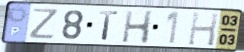1: (163, 10, 181, 46)
8: (62, 9, 85, 41)
H: (186, 10, 221, 47), (120, 10, 155, 46)
T: (98, 9, 120, 42)
Z: (27, 7, 61, 41)
